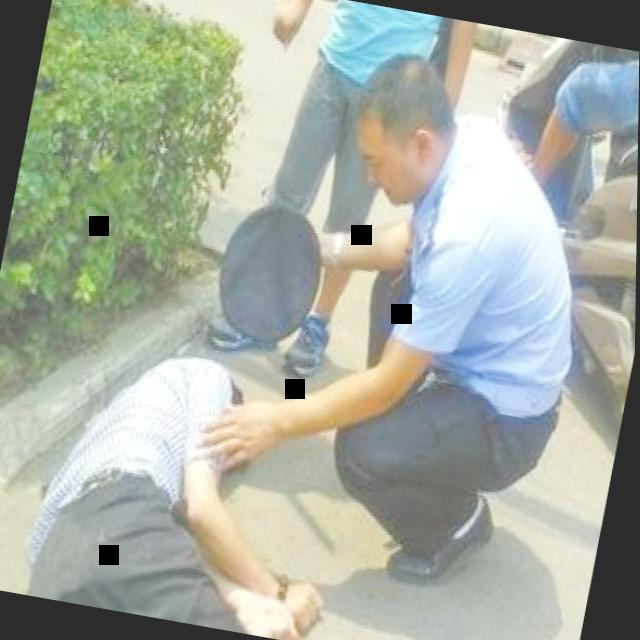Fall-Detected: (13, 302, 392, 640)
